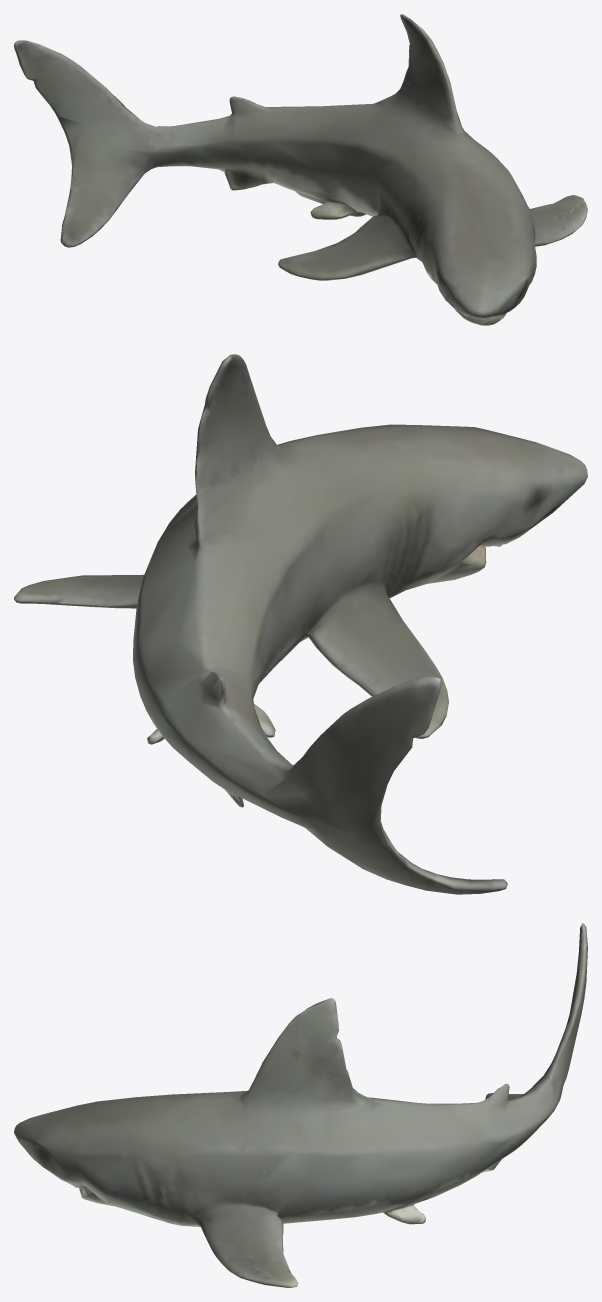
File: Weisshai_Great_White_Shark-high.glb
The picture shows the model from 3 angles, top to bottom: view 1: azimuth 30°, elevation 25°; view 2: azimuth 150°, elevation 25°; view 3: azimuth 270°, elevation 25°; orthographic projection. The views are drawn at different scales.
Visible parts, largest first — view 1: Weisshai_Great_White_Shark; view 2: Weisshai_Great_White_Shark; view 3: Weisshai_Great_White_Shark.
Part boxes in pixels (x1,y1,x2,y2): Weisshai_Great_White_Shark: (14, 14, 587, 325); Weisshai_Great_White_Shark: (14, 354, 587, 894); Weisshai_Great_White_Shark: (14, 923, 587, 1287).
Bounding box in the file's own units: 0.1437 × 0.0747 × 0.1671.
1 material, 1 textured.
